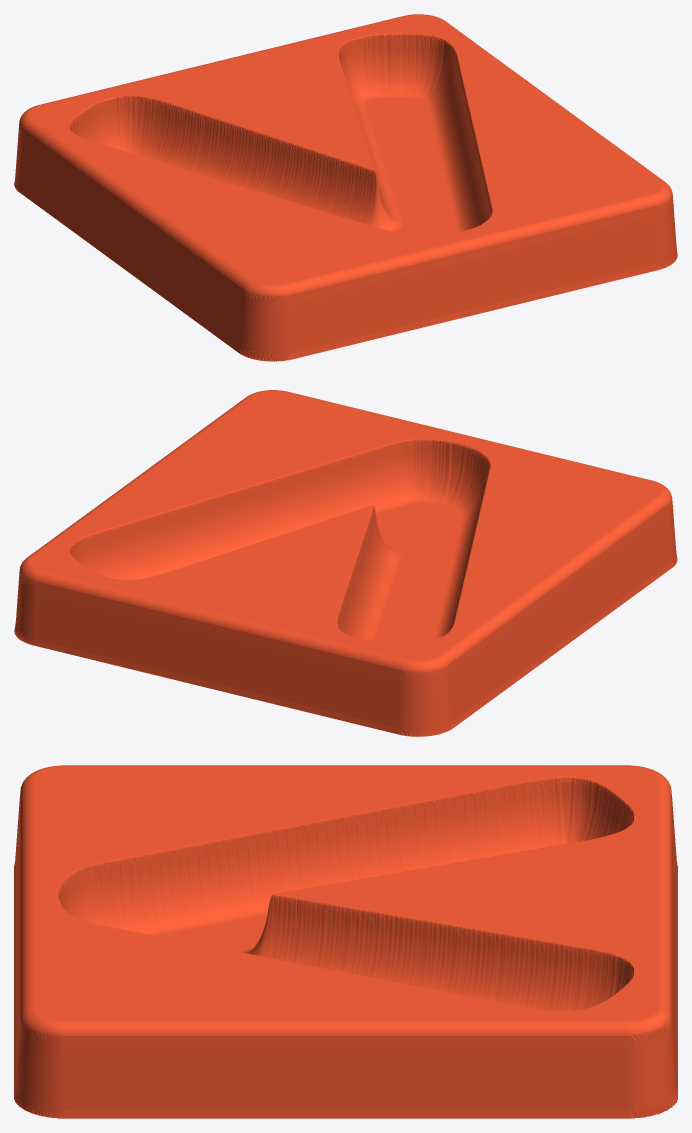
Rendered from mold.glb.
The picture shows the model from 3 angles, top to bottom: view 1: azimuth 30°, elevation 25°; view 2: azimuth 150°, elevation 25°; view 3: azimuth 270°, elevation 25°; orthographic projection. The views are drawn at different scales.
Parts seen in each view (by area): view 1: geometry_0; view 2: geometry_0; view 3: geometry_0.
Part boxes in pixels (box(x1,y1,x2,y2)): geometry_0: box(14, 14, 677, 361); geometry_0: box(14, 390, 677, 736); geometry_0: box(14, 765, 677, 1118).
Bounding box in the file's own units: 0.1138 × 0.0175 × 0.1178.
